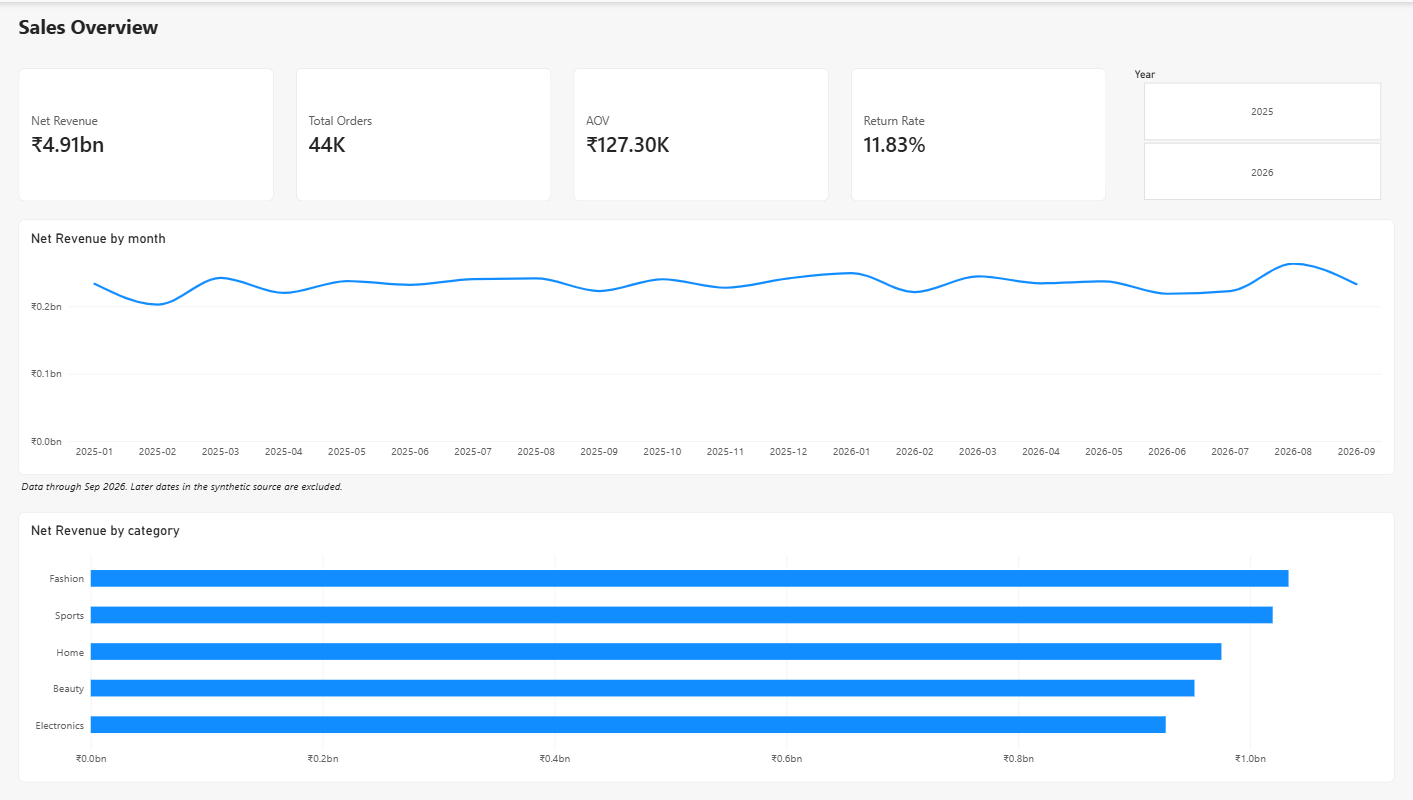

The dashboard page shown, as its layout file describes it:
{"tool":"powerbi","page":{"name":"Sales Overview","canvas":[1920,1080],"ordinal":0},"visuals":[{"type":"cardVisual","fields":{"Data":["fact_orders.Net Revenue"]},"box":[30,90,345,180],"z":0},{"type":"cardVisual","fields":{"Data":["fact_orders.Total Orders"]},"box":[405,90,345,180],"z":1000},{"type":"cardVisual","fields":{"Data":["fact_orders.AOV"]},"box":[780,90,345,180],"z":2000},{"type":"cardVisual","fields":{"Data":["fact_orders.Return Rate"]},"box":[1155,90,345,180],"z":3000},{"type":"lineChart","title":"Net Revenue by month","fields":{"Category":["dim_date.year_month"],"Y":["fact_orders.Net Revenue"]},"box":[30,295,1860,345],"z":4000},{"type":"clusteredBarChart","title":"Net Revenue by category","fields":{"Category":["dim_products.category"],"Y":["fact_orders.Net Revenue"]},"box":[30,690,1860,365],"z":5000},{"type":"slicer","fields":{"Values":["dim_date.year"]},"box":[1530,90,360,180],"z":6000},{"type":"textbox","box":[30,645,900,35],"z":7000},{"type":"textbox","box":[30,15,900,60],"z":8000}]}

Visuals, with their boxes in screenshot pixels (x1, y1, x2, y2), scaled from the page's 1920x1080 canvas onto the 1413x800 screenshot:
cardVisual - fact_orders.Net Revenue: detection(22, 67, 276, 200)
cardVisual - fact_orders.Total Orders: detection(298, 67, 552, 200)
cardVisual - fact_orders.AOV: detection(574, 67, 828, 200)
cardVisual - fact_orders.Return Rate: detection(850, 67, 1104, 200)
"Net Revenue by month" lineChart: detection(22, 219, 1391, 474)
"Net Revenue by category" clusteredBarChart: detection(22, 511, 1391, 781)
slicer - dim_date.year: detection(1126, 67, 1391, 200)
textbox: detection(22, 478, 684, 504)
textbox: detection(22, 11, 684, 56)
